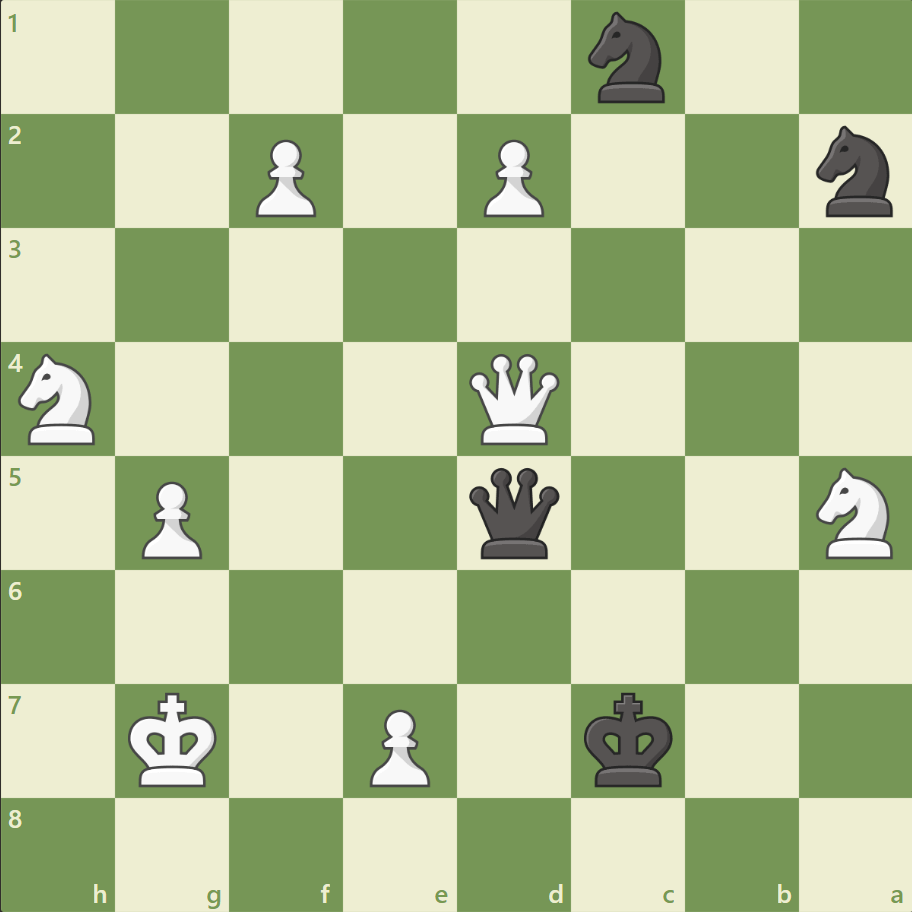K: (124, 685, 224, 793)
N: (806, 461, 903, 564), (11, 348, 108, 450)
P: (133, 473, 208, 564), (474, 132, 549, 223), (247, 132, 322, 223), (361, 700, 435, 791)
Q: (464, 349, 563, 449)
k: (579, 685, 679, 793)
n: (579, 7, 676, 110), (806, 121, 903, 223)
q: (464, 463, 563, 562)
